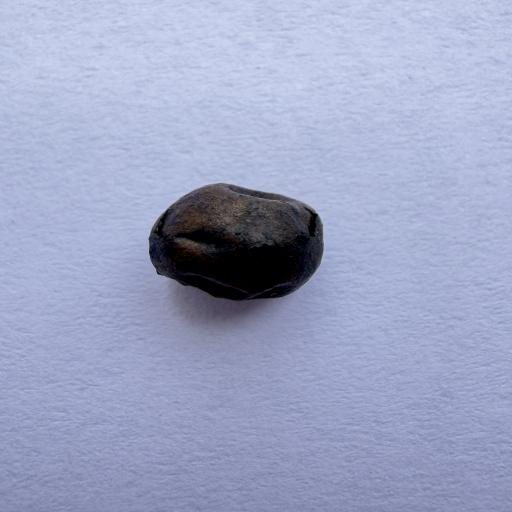Black_pepper: (106, 160, 370, 328)
